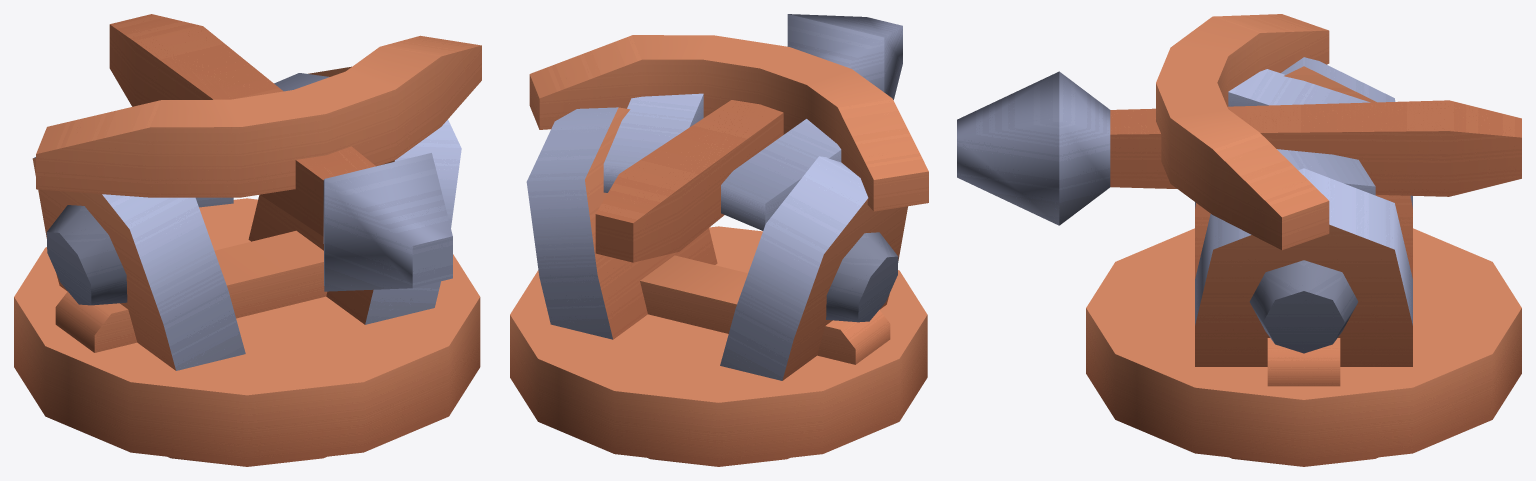
Rendered from crossbow.glb.
The picture shows the model from 3 angles, left to right: view 1: azimuth 30°, elevation 25°; view 2: azimuth 150°, elevation 25°; view 3: azimuth 270°, elevation 25°; orthographic projection. The views are drawn at different scales.
Visible parts, largest first — view 1: weapon-cannon, arrow.001; view 2: weapon-cannon, arrow.001; view 3: weapon-cannon, arrow.001.
Part boxes in pixels (x1,y1,x2,y2): weapon-cannon: [14, 66, 480, 466]; arrow.001: [36, 14, 481, 291]; weapon-cannon: [510, 107, 927, 466]; arrow.001: [529, 14, 928, 262]; weapon-cannon: [1086, 57, 1521, 466]; arrow.001: [957, 14, 1521, 250].
Bounding box in the file's own units: 0.6627 × 0.492 × 0.7776.
2 materials, 2 textured.
